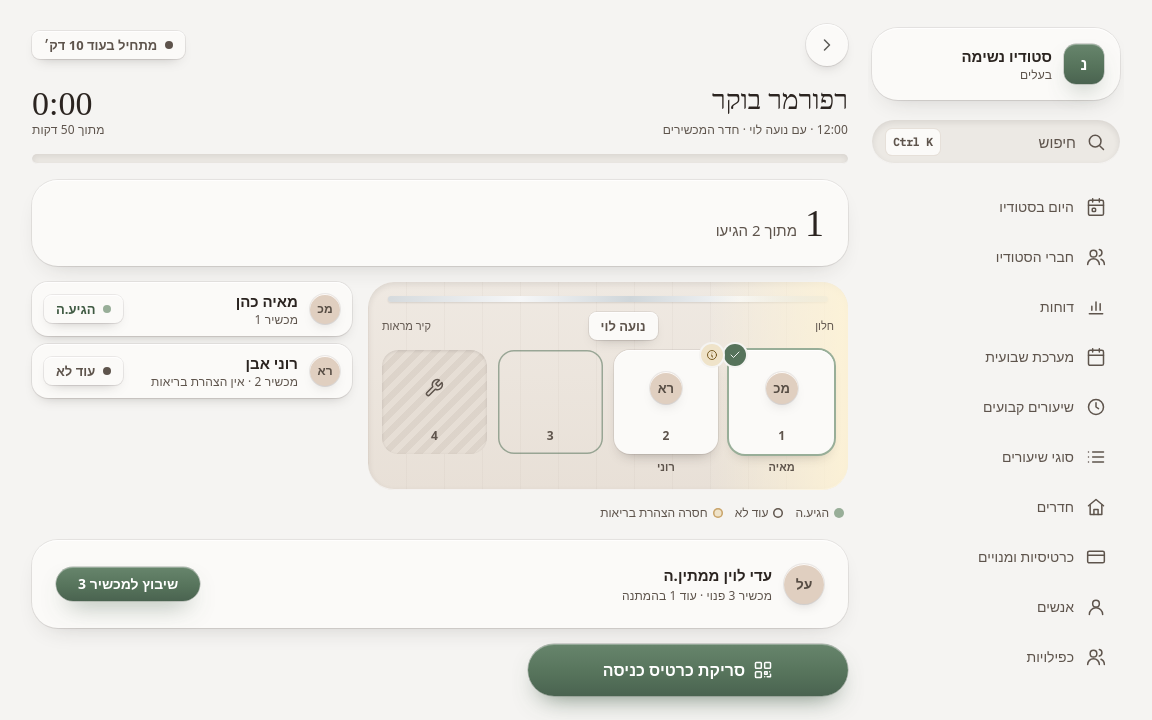
Test: OwnerLive, the class on a screen of its own (LV-1, #378 item 2) › moves the person waiting into the free spot from the desk
The image size is (1152, 720).
Click the button "שיבוץ למכשיר 3" at (128,584), box [56, 567, 200, 601]
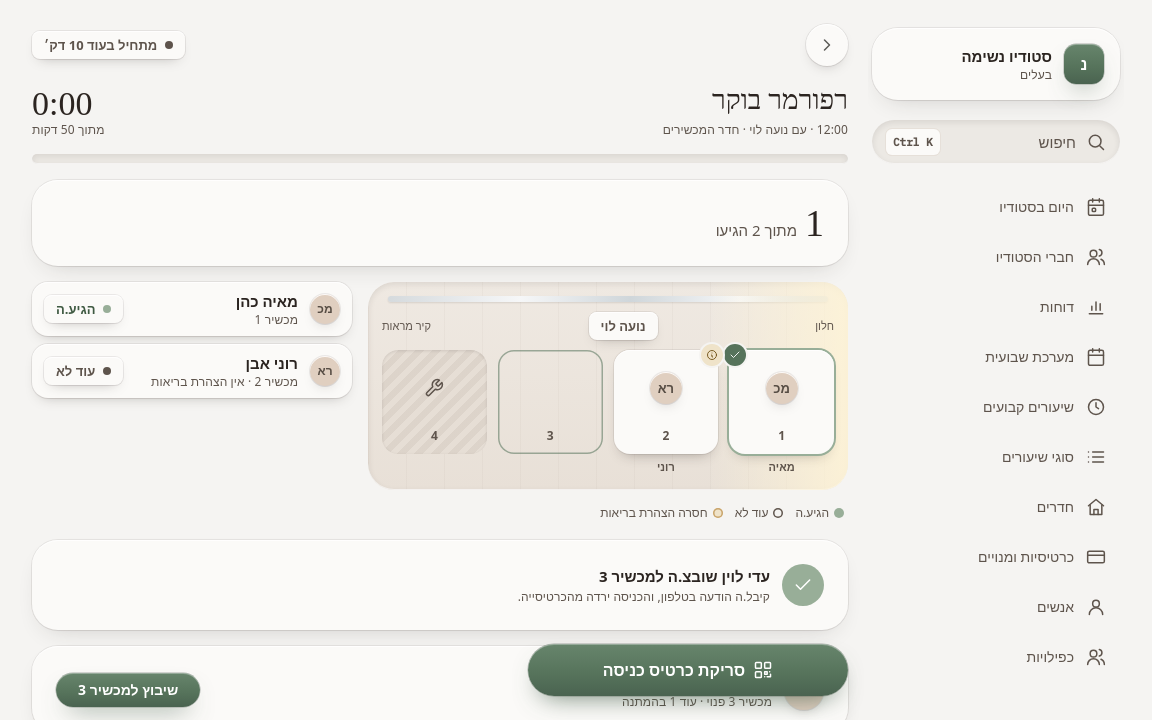
Expected: the text "קיבל.ה הודעה בטלפון, והכניסה ירדה מהכרטיסייה." is shown, [518, 589, 770, 605]
